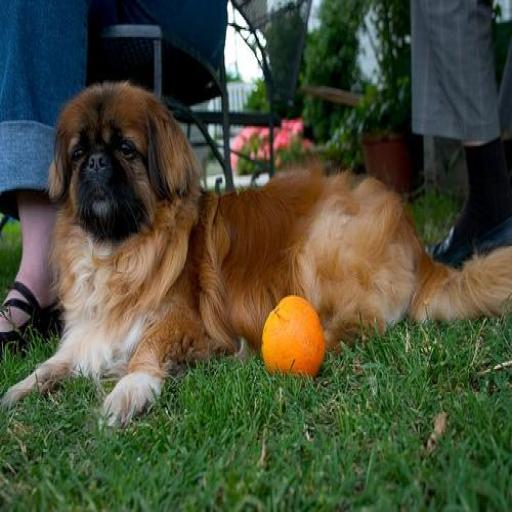dog_face: (51, 91, 191, 236)
